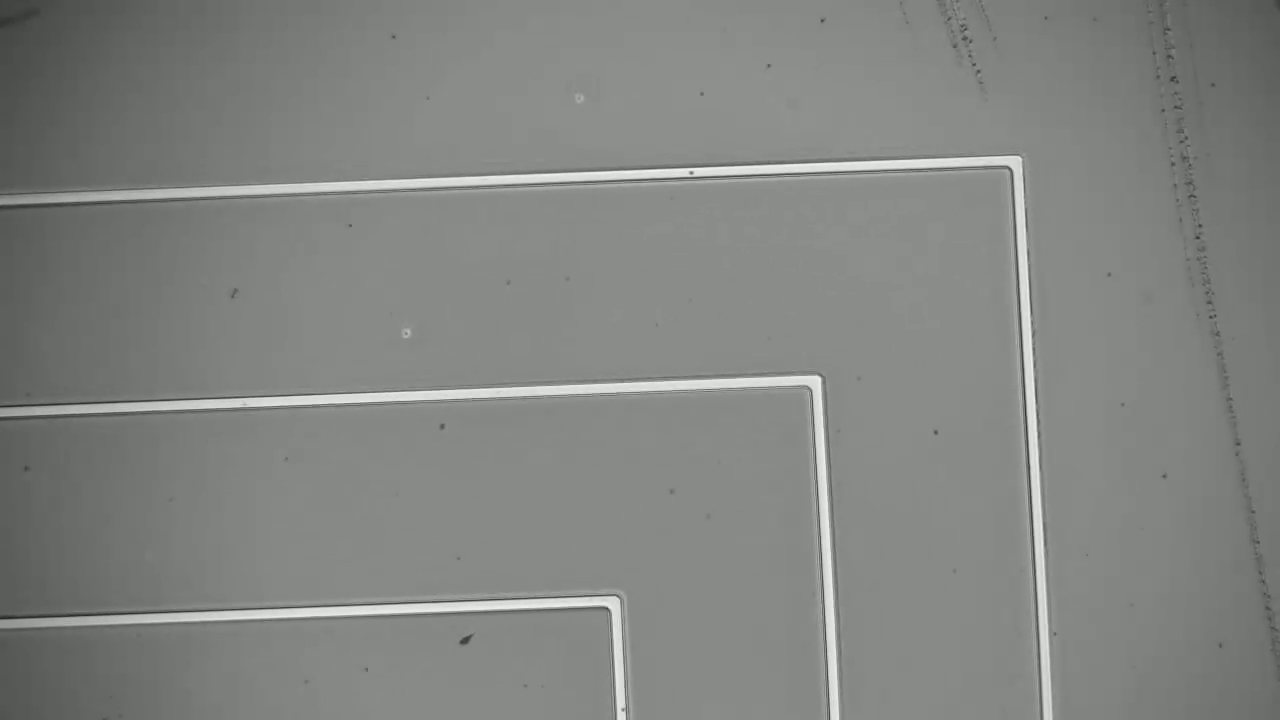scratch: (1156, 12, 1280, 679), (912, 2, 1000, 104)
